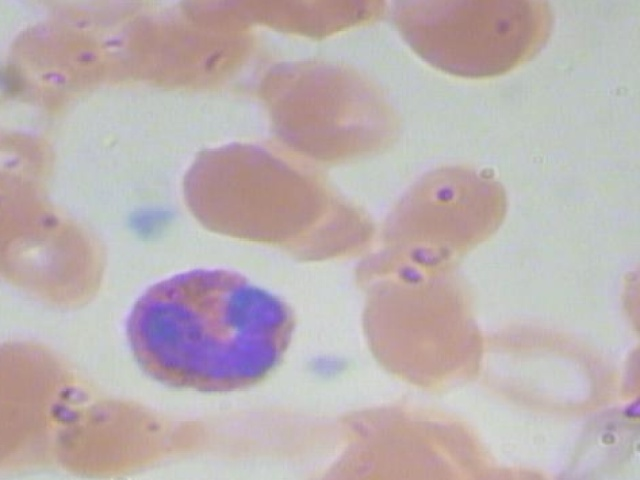Platelets: (127, 201, 178, 241), (302, 350, 356, 384)
RBC: (166, 135, 331, 245), (254, 55, 405, 162), (464, 315, 620, 418), (365, 155, 513, 260), (385, 0, 554, 87), (353, 278, 486, 383), (43, 389, 191, 480), (0, 199, 125, 306), (0, 13, 111, 100), (0, 123, 60, 209), (613, 329, 640, 453), (614, 240, 640, 345)
WBC: (116, 265, 309, 397)
